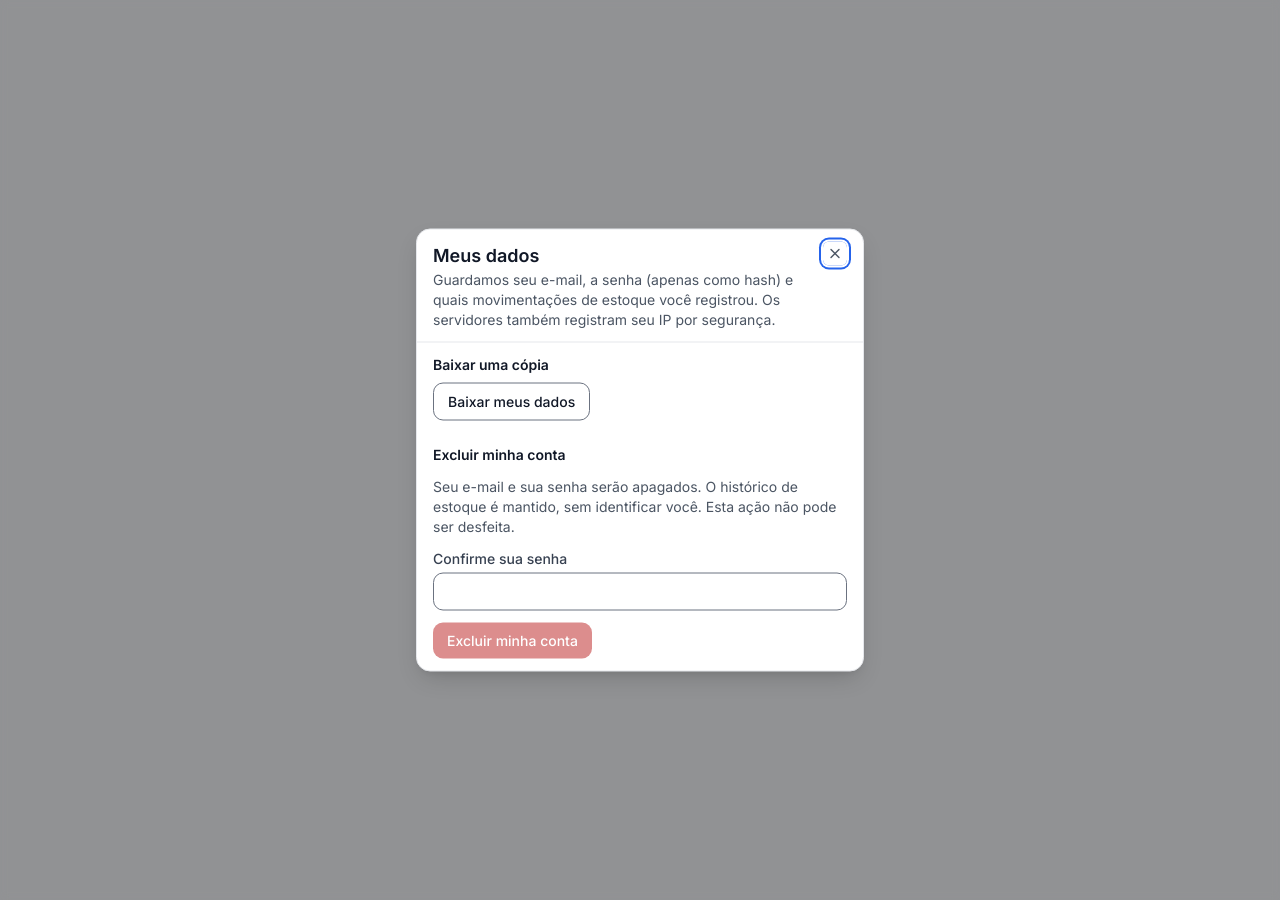
Test: AccountDataModal (LGPD) › mostra o erro (role=alert) quando a senha está incorreta e não desloga
Type "errada" into the password field labelled "Confirme sua senha" at (640, 592), box [433, 572, 847, 610]
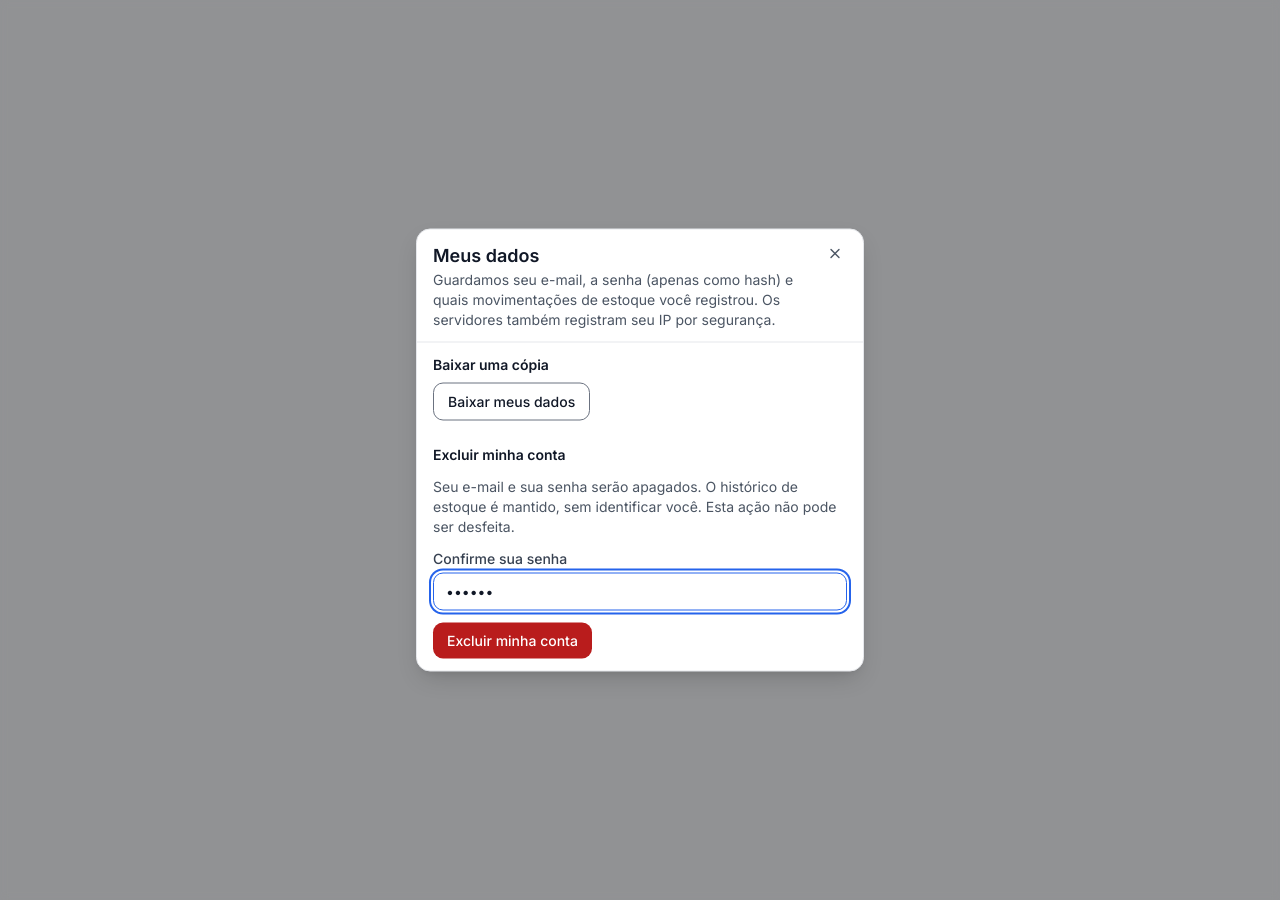
Click the button "Excluir minha conta" at (512, 640), box [433, 622, 592, 658]
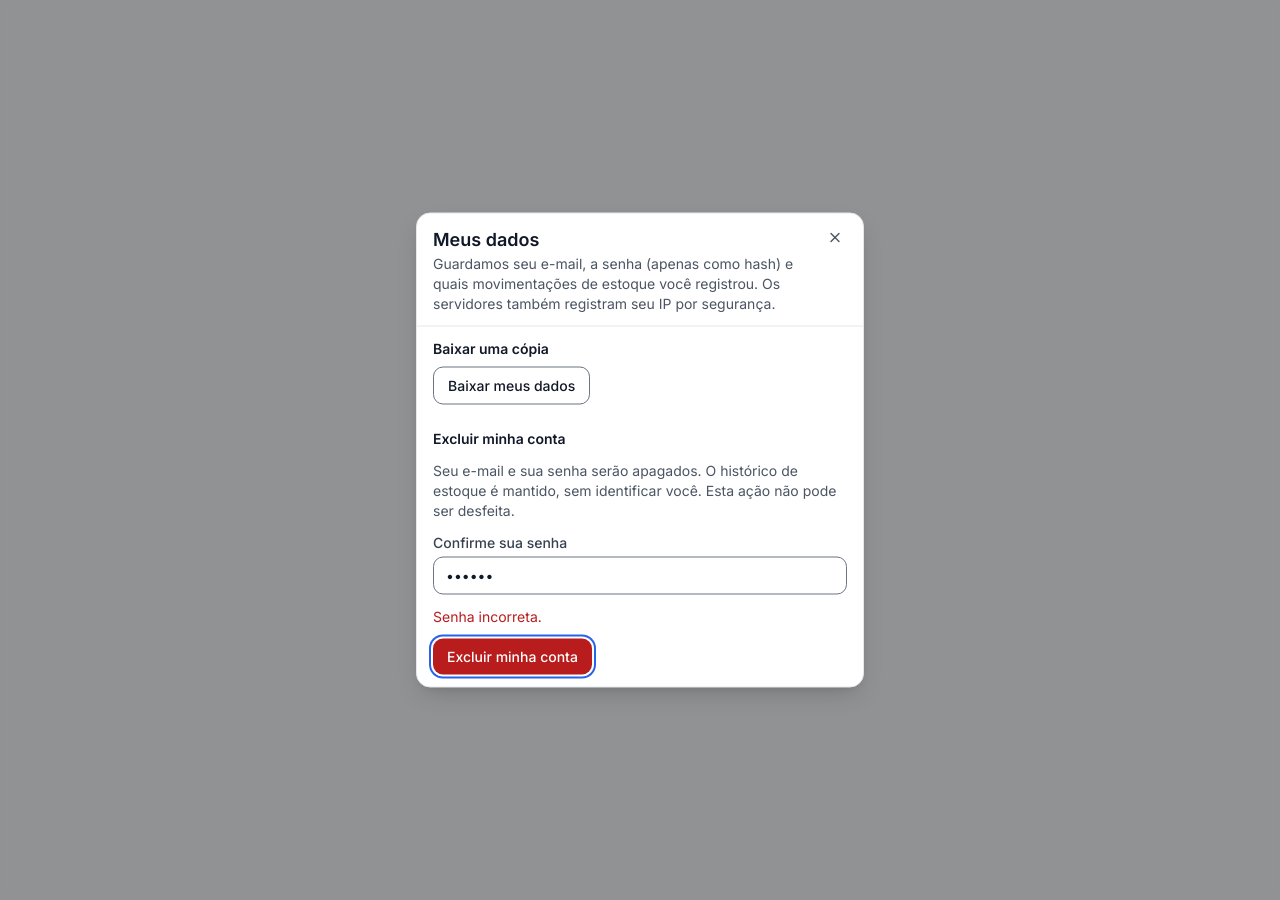
Expected: the message reads "Senha incorreta.", [433, 608, 542, 624]
